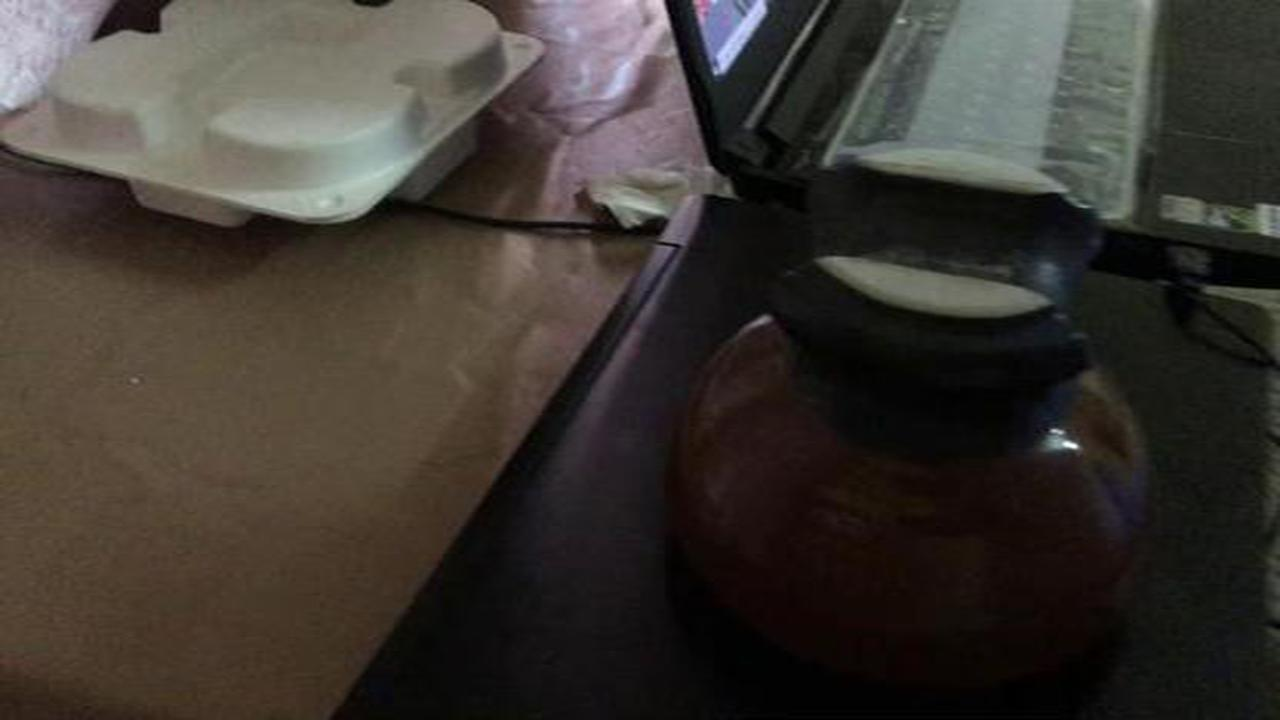insulator_pin: (637, 123, 1197, 689)
